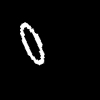chain: (20, 23, 43, 64)
